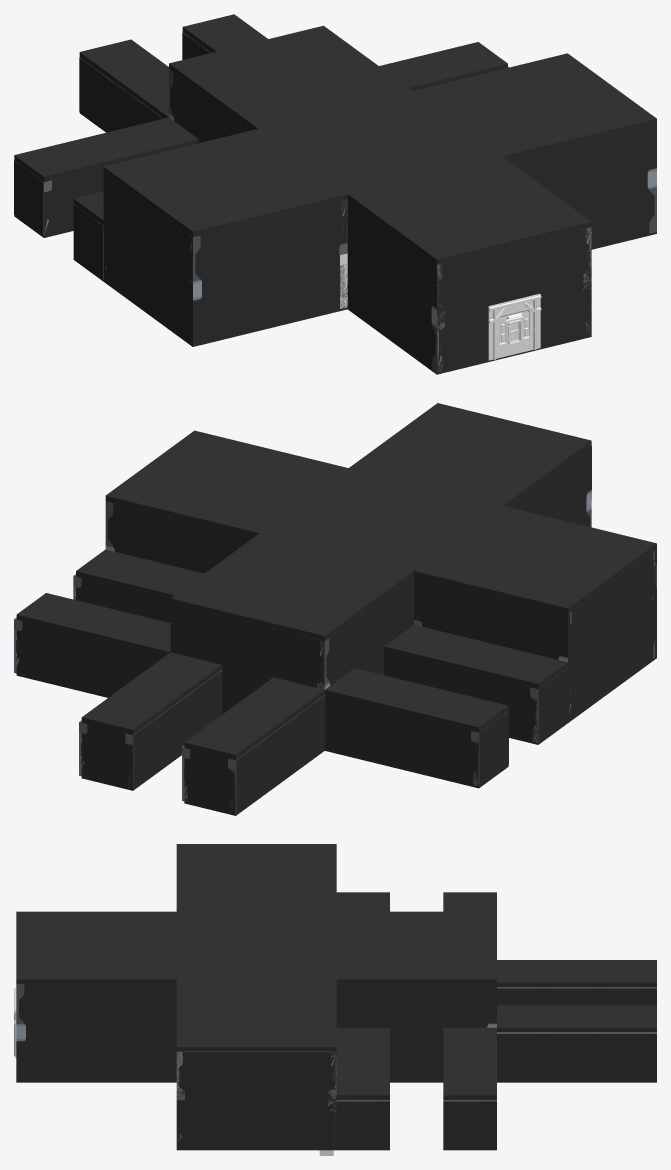
Rendered from brackeys-level.glb.
3 views of the same model, one above another, from view 1: azimuth 30°, elevation 25°; view 2: azimuth 150°, elevation 25°; view 3: azimuth 270°, elevation 25° (orthographic). The views are drawn at different scales.
Visible parts, largest first — view 1: wall-col.005, wall-col.013, wall-col.020, wall-col.061, wall-col.031, wall-col.004, wall-col.012, wall-col.058, doorframe-col, wall-col.032, wall-col.062, wall-col.057 (+79 smaller); view 2: wall-col.084, wall-col.085, wall-col.018, wall-col.072, wall-col.071, wall-col.083, wall-col.019, wall-col.087, wall-col.086, wall-col.067, wall-col.017, wall-col.064 (+92 smaller); view 3: wall-col.088, wall-col.089, wall-col.095, wall-col.096, wall-col.097, wall-col.010, wall-col.034, wall-col.046, wall-col.009, wall-col.033, wall-col.037, wall-col.001 (+71 smaller).
Part boxes in pixels (x1,y1,x2,y2): wall-col.005: (431,306,488,372); wall-col.013: (431,252,488,318); wall-col.020: (488,239,539,305); wall-col.061: (244,212,295,278); wall-col.031: (244,266,295,332); wall-col.004: (540,281,591,347); wall-col.012: (540,227,591,293); wall-col.058: (554,136,605,200); doorframe-col: (488,293,541,360); wall-col.032: (191,278,244,344); wall-col.062: (296,199,347,265); wall-col.057: (605,124,656,190); wall-col.084: (376,707,427,773); wall-col.085: (325,695,376,761); wall-col.018: (222,616,273,680); wall-col.072: (68,632,119,696); wall-col.071: (16,621,67,685); wall-col.083: (427,720,478,786); wall-col.019: (273,629,329,694); wall-col.087: (81,724,132,788); wall-col.086: (184,749,235,813); wall-col.067: (465,589,516,649); wall-col.017: (170,604,221,664); wall-col.064: (157,513,208,573); wall-col.088: (336,1100,389,1149); wall-col.089: (443,1100,496,1149); wall-col.095: (497,1032,550,1081); wall-col.096: (550,1032,603,1081); wall-col.097: (603,1032,656,1081); wall-col.010: (230,1051,283,1100); wall-col.034: (69,1032,123,1080); wall-col.046: (69,984,123,1032); wall-col.009: (283,1051,336,1100); wall-col.033: (123,1032,176,1080); wall-col.037: (390,1032,443,1080); wall-col.001: (176,1100,229,1148).
Bounding box in the file's own units: 45.27 × 11.49 × 60.22.
Materials: 292 (245 with a texture image).
